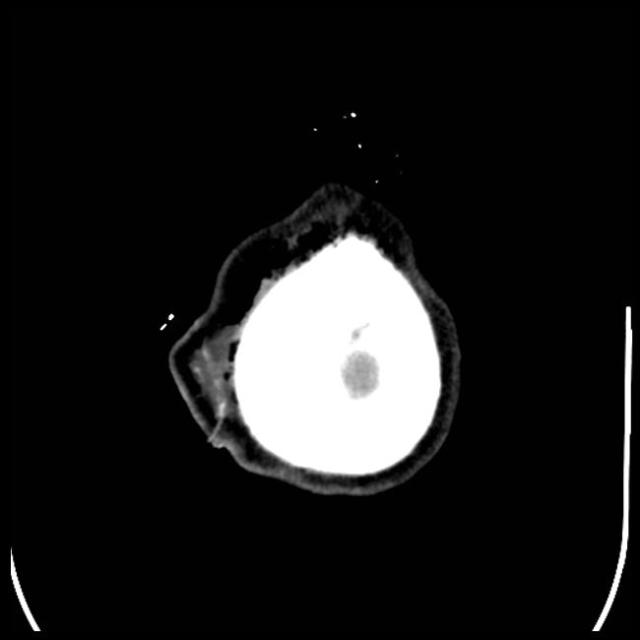lesion: (160, 174, 470, 502)
